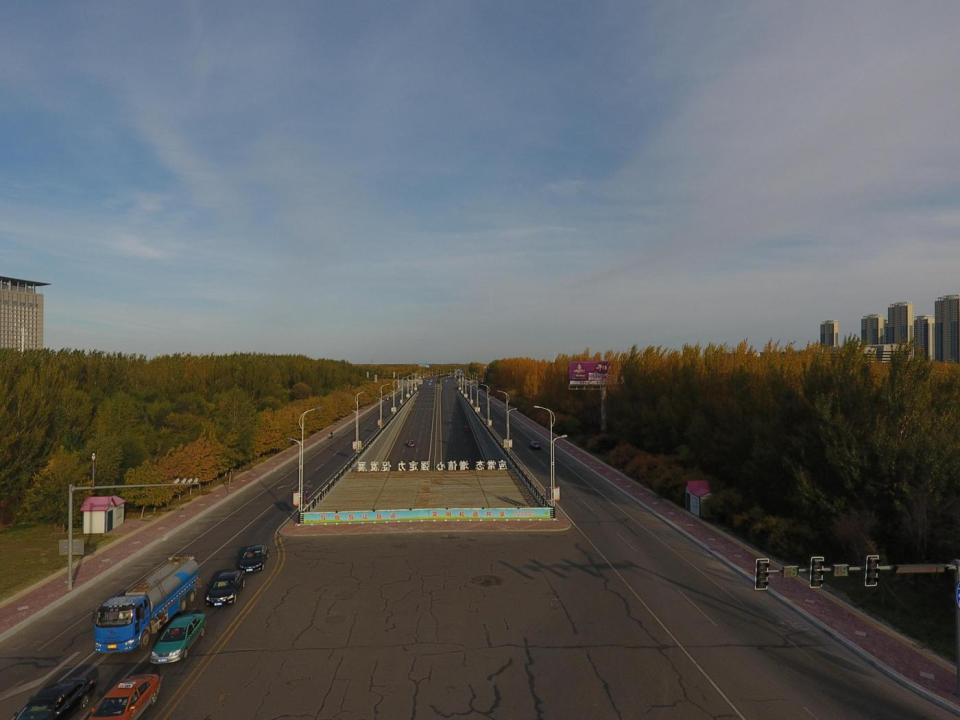car: (8, 676, 96, 720), (86, 673, 162, 720), (147, 611, 207, 666), (204, 567, 246, 608), (238, 543, 269, 572), (529, 441, 541, 450), (408, 440, 415, 447), (462, 425, 469, 432), (383, 395, 391, 400)
truck: (94, 553, 199, 654)
